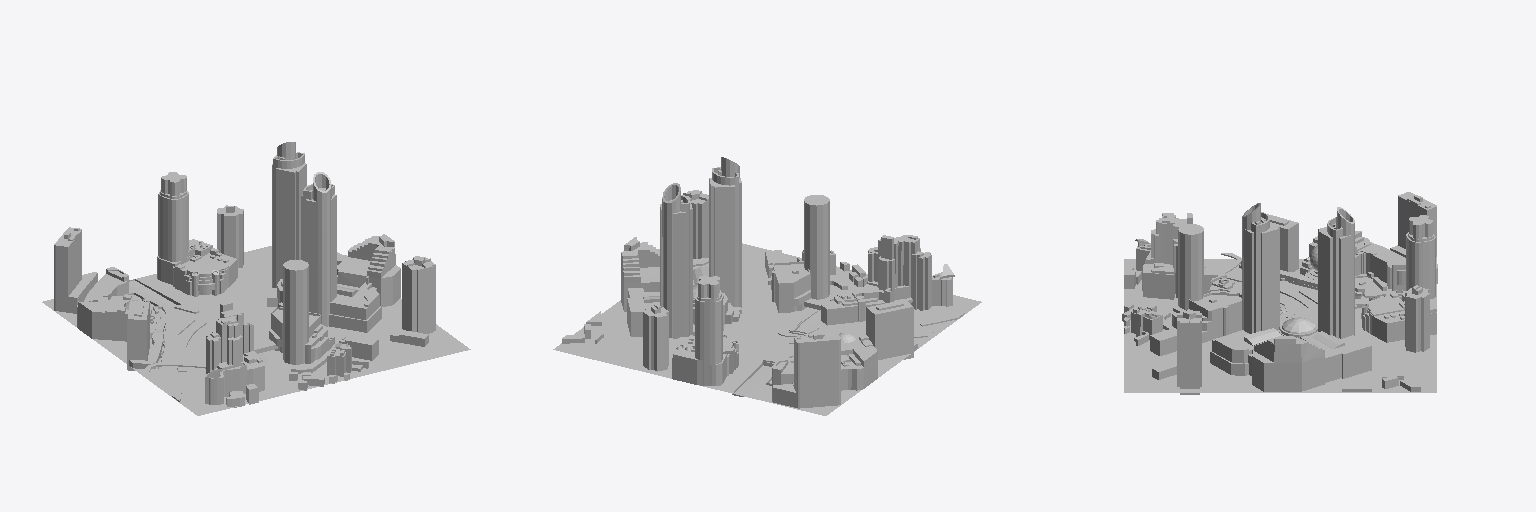
Rendered from xujiahui_l_f.obj.
3 renders of one model, left to right at view 1: azimuth 30°, elevation 25°; view 2: azimuth 150°, elevation 25°; view 3: azimuth 270°, elevation 25°, orthographic.
Visible parts, largest first — view 1: xujiahui_l_f_xujiahui_l_f_xujiahui_l_f_xujiahui_l_f_polySurface1; view 2: xujiahui_l_f_xujiahui_l_f_xujiahui_l_f_xujiahui_l_f_polySurface1; view 3: xujiahui_l_f_xujiahui_l_f_xujiahui_l_f_xujiahui_l_f_polySurface1.
Part boxes in pixels (bbox=[...]): xujiahui_l_f_xujiahui_l_f_xujiahui_l_f_xujiahui_l_f_polySurface1: bbox=[42, 142, 470, 415]; xujiahui_l_f_xujiahui_l_f_xujiahui_l_f_xujiahui_l_f_polySurface1: bbox=[553, 157, 981, 415]; xujiahui_l_f_xujiahui_l_f_xujiahui_l_f_xujiahui_l_f_polySurface1: bbox=[1122, 192, 1437, 394].
Size of the model in its own units: 24.28 by 13.25 by 24.15.